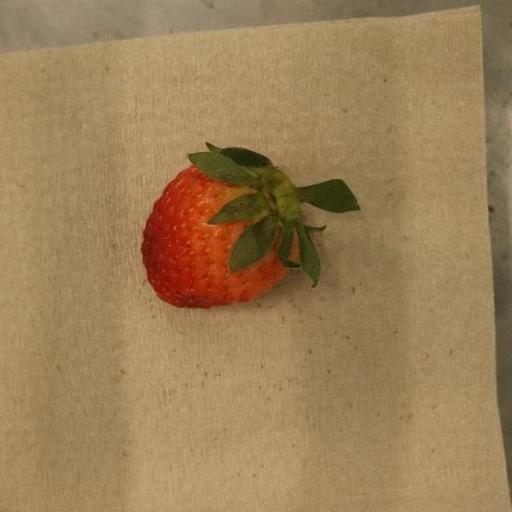Strawberry: (141, 143, 362, 309)
